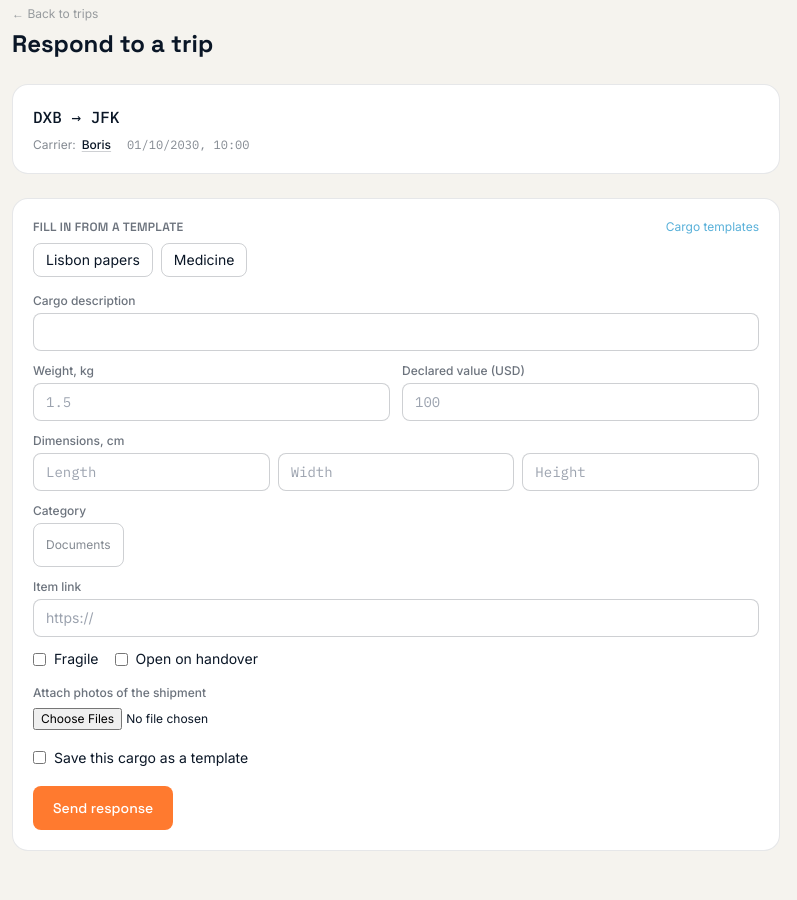
Test: RespondPage › leaves unanswered a category this trip does not carry
The width and height of the screenshot is (797, 900).
Click the button "Medicine".
click(204, 260)  # box [161, 243, 247, 277]
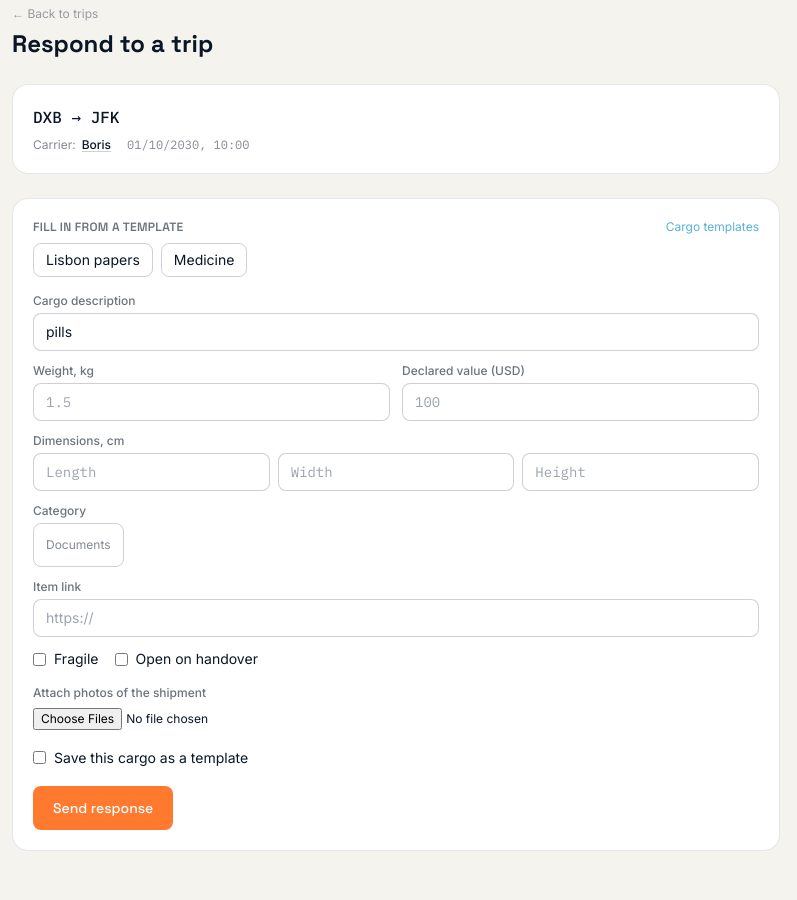
Expected: the field labelled "Cargo description" holds "pills", [33, 313, 759, 351]
Submit the form named "Send response"
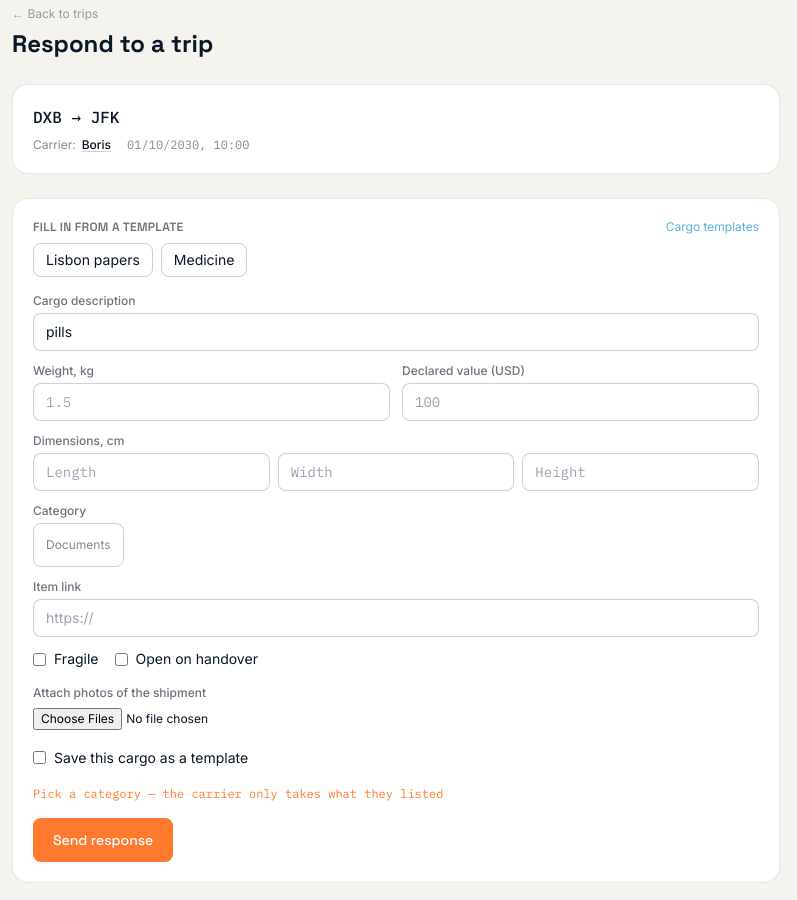
Expected: the text "Pick a category — the carrier only takes what they listed" is shown, [33, 786, 443, 801]
